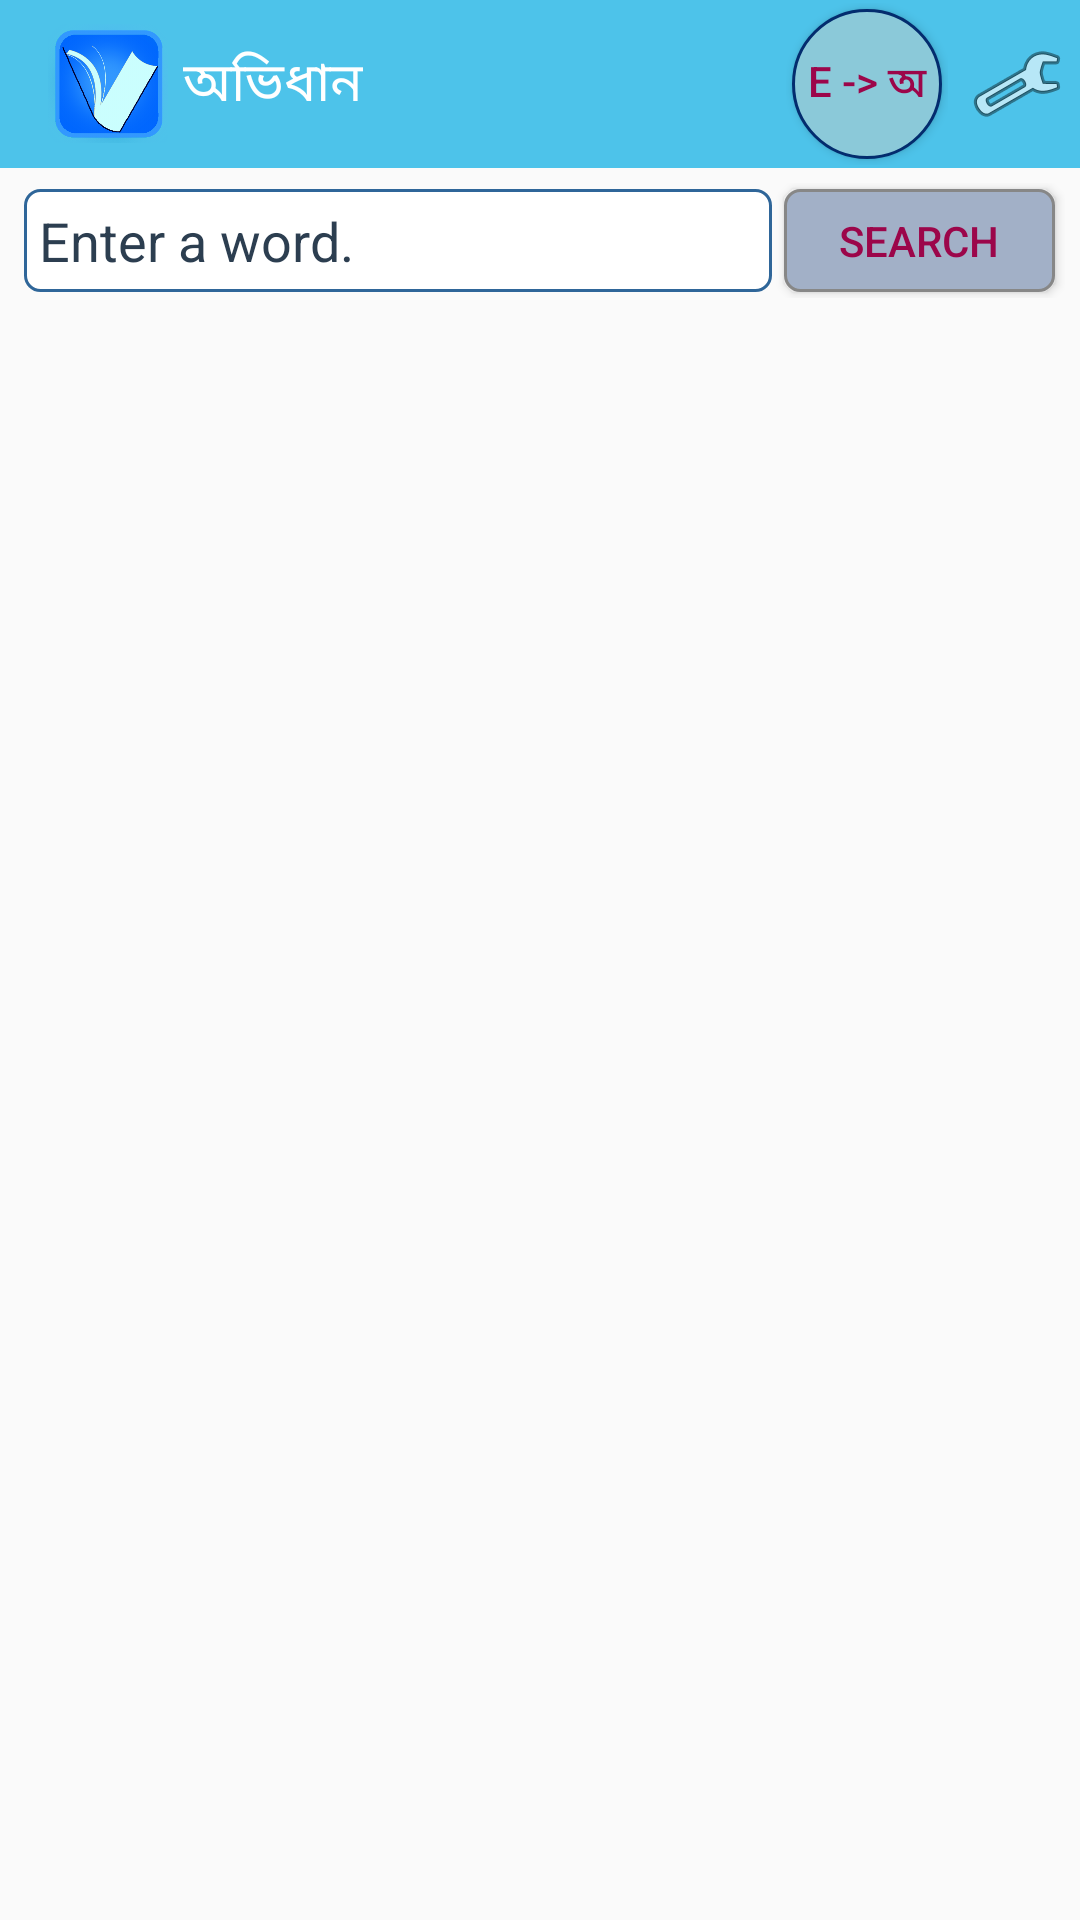

Screen size 1080 x 1920. Icon name, then its box in pixels as BBox(x1, y1, x2, y2):
preferences: BBox(974, 51, 1060, 117)
